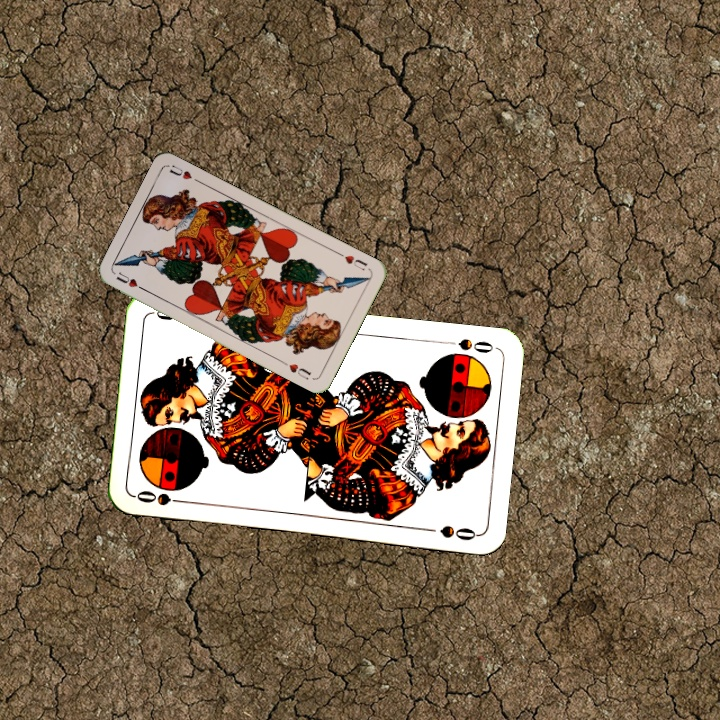HU: (112, 268, 149, 294), (334, 248, 370, 273)
SO: (132, 486, 191, 508), (439, 334, 498, 356)
